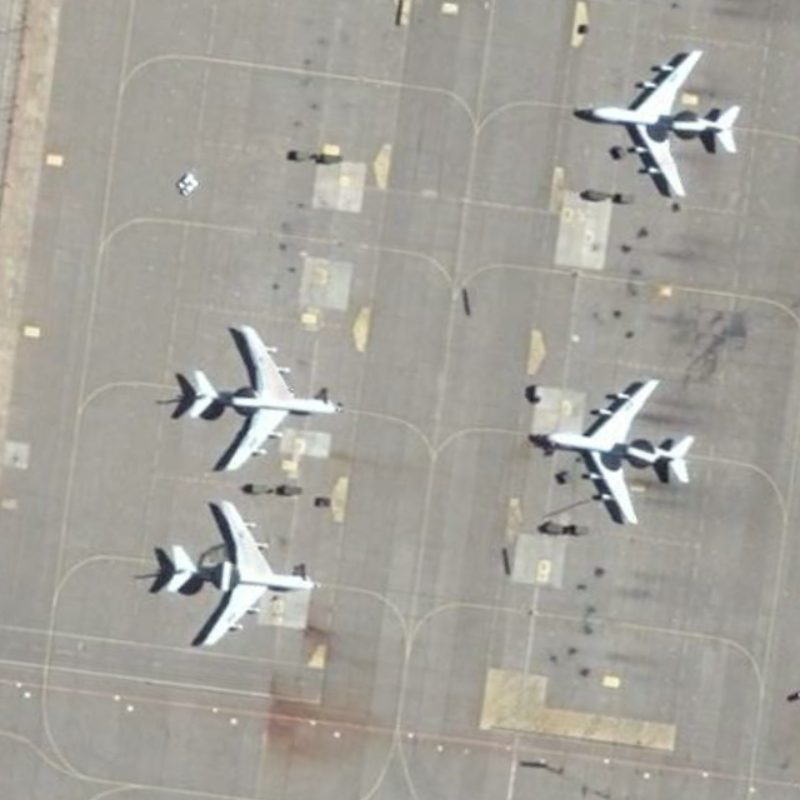A7: (568, 43, 756, 206), (530, 362, 697, 545), (170, 316, 355, 477), (152, 495, 331, 653)
